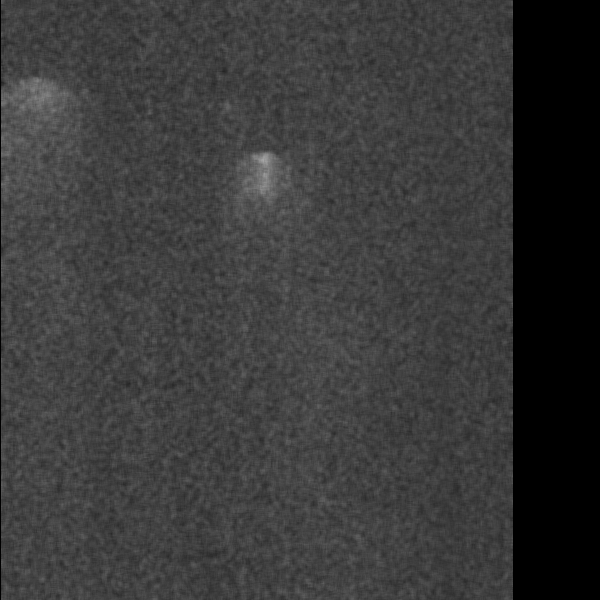spark: (1, 72, 81, 136), (243, 145, 281, 242), (500, 86, 516, 99)
